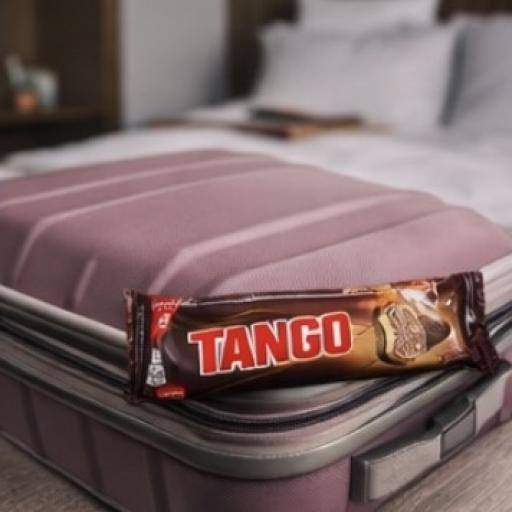tango: (89, 241, 508, 446)
